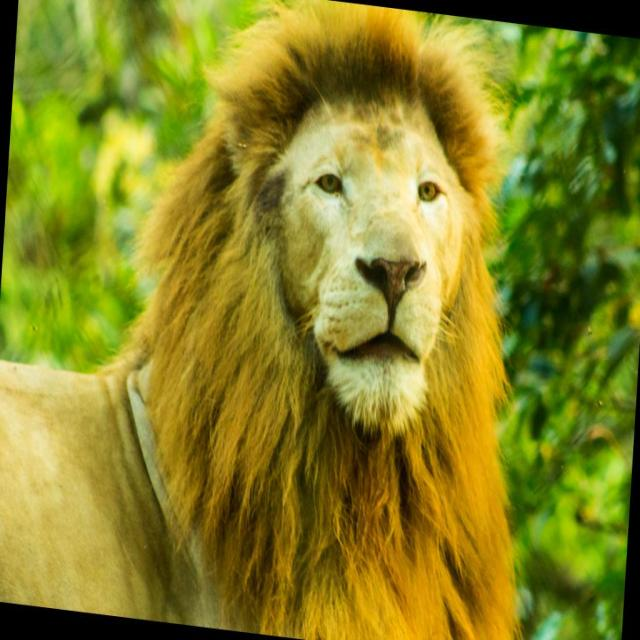Lion: (0, 0, 566, 639)
